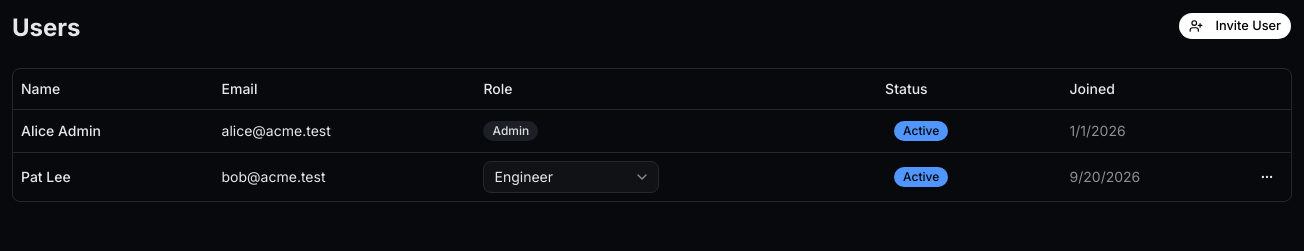
Scenario: a pending invitee › does not offer a resend for an accepted member
Click the button named "open actions".
click(1267, 176)  # box [1251,160,1283,192]
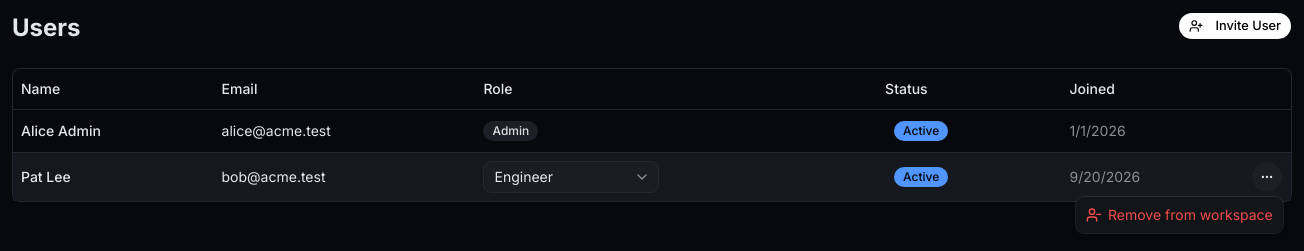
Check: the menu items read "Remove from workspace", in this order, box [1080,201,1279,229]
